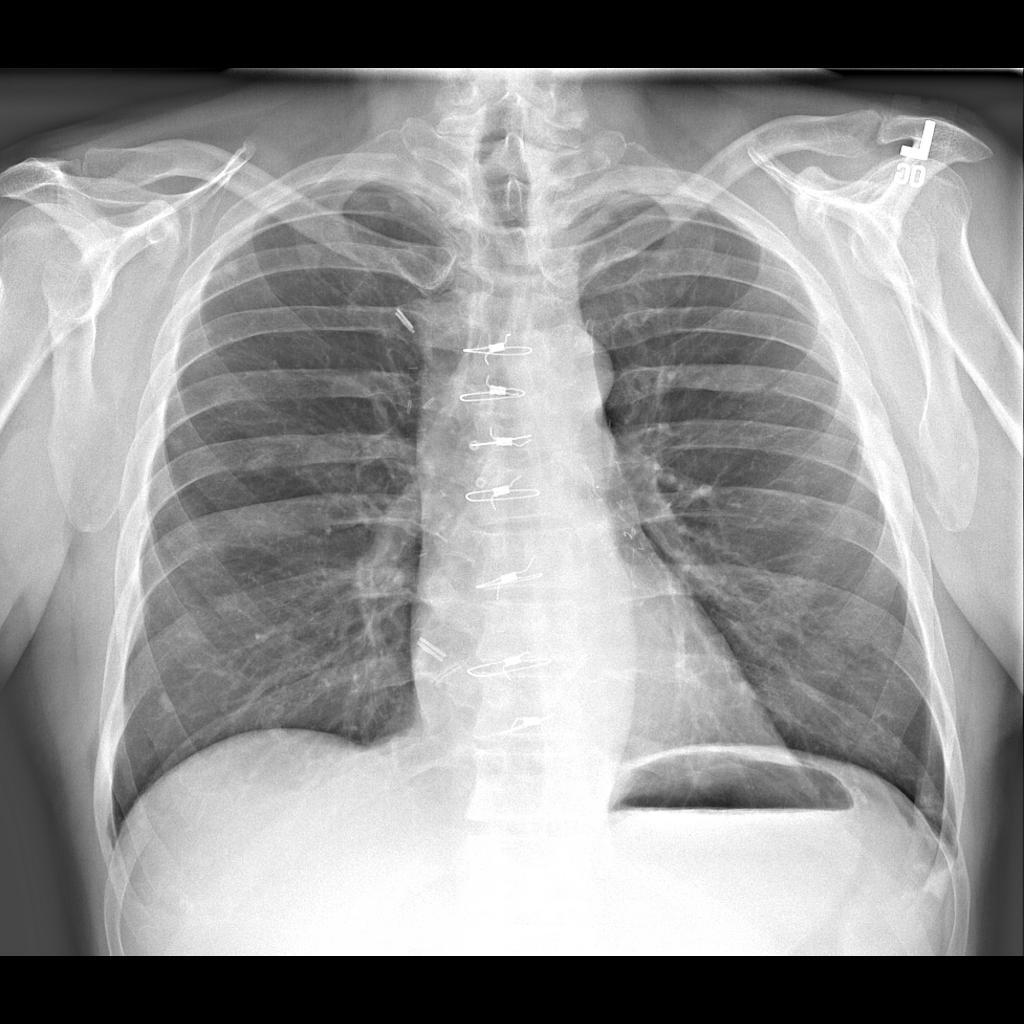Nodule: (235, 440, 294, 496), (917, 787, 957, 826), (222, 259, 243, 280)
